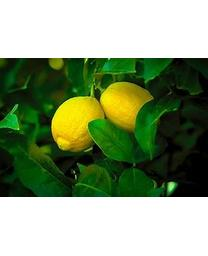lemon: (50, 96, 106, 152), (99, 83, 156, 135)
